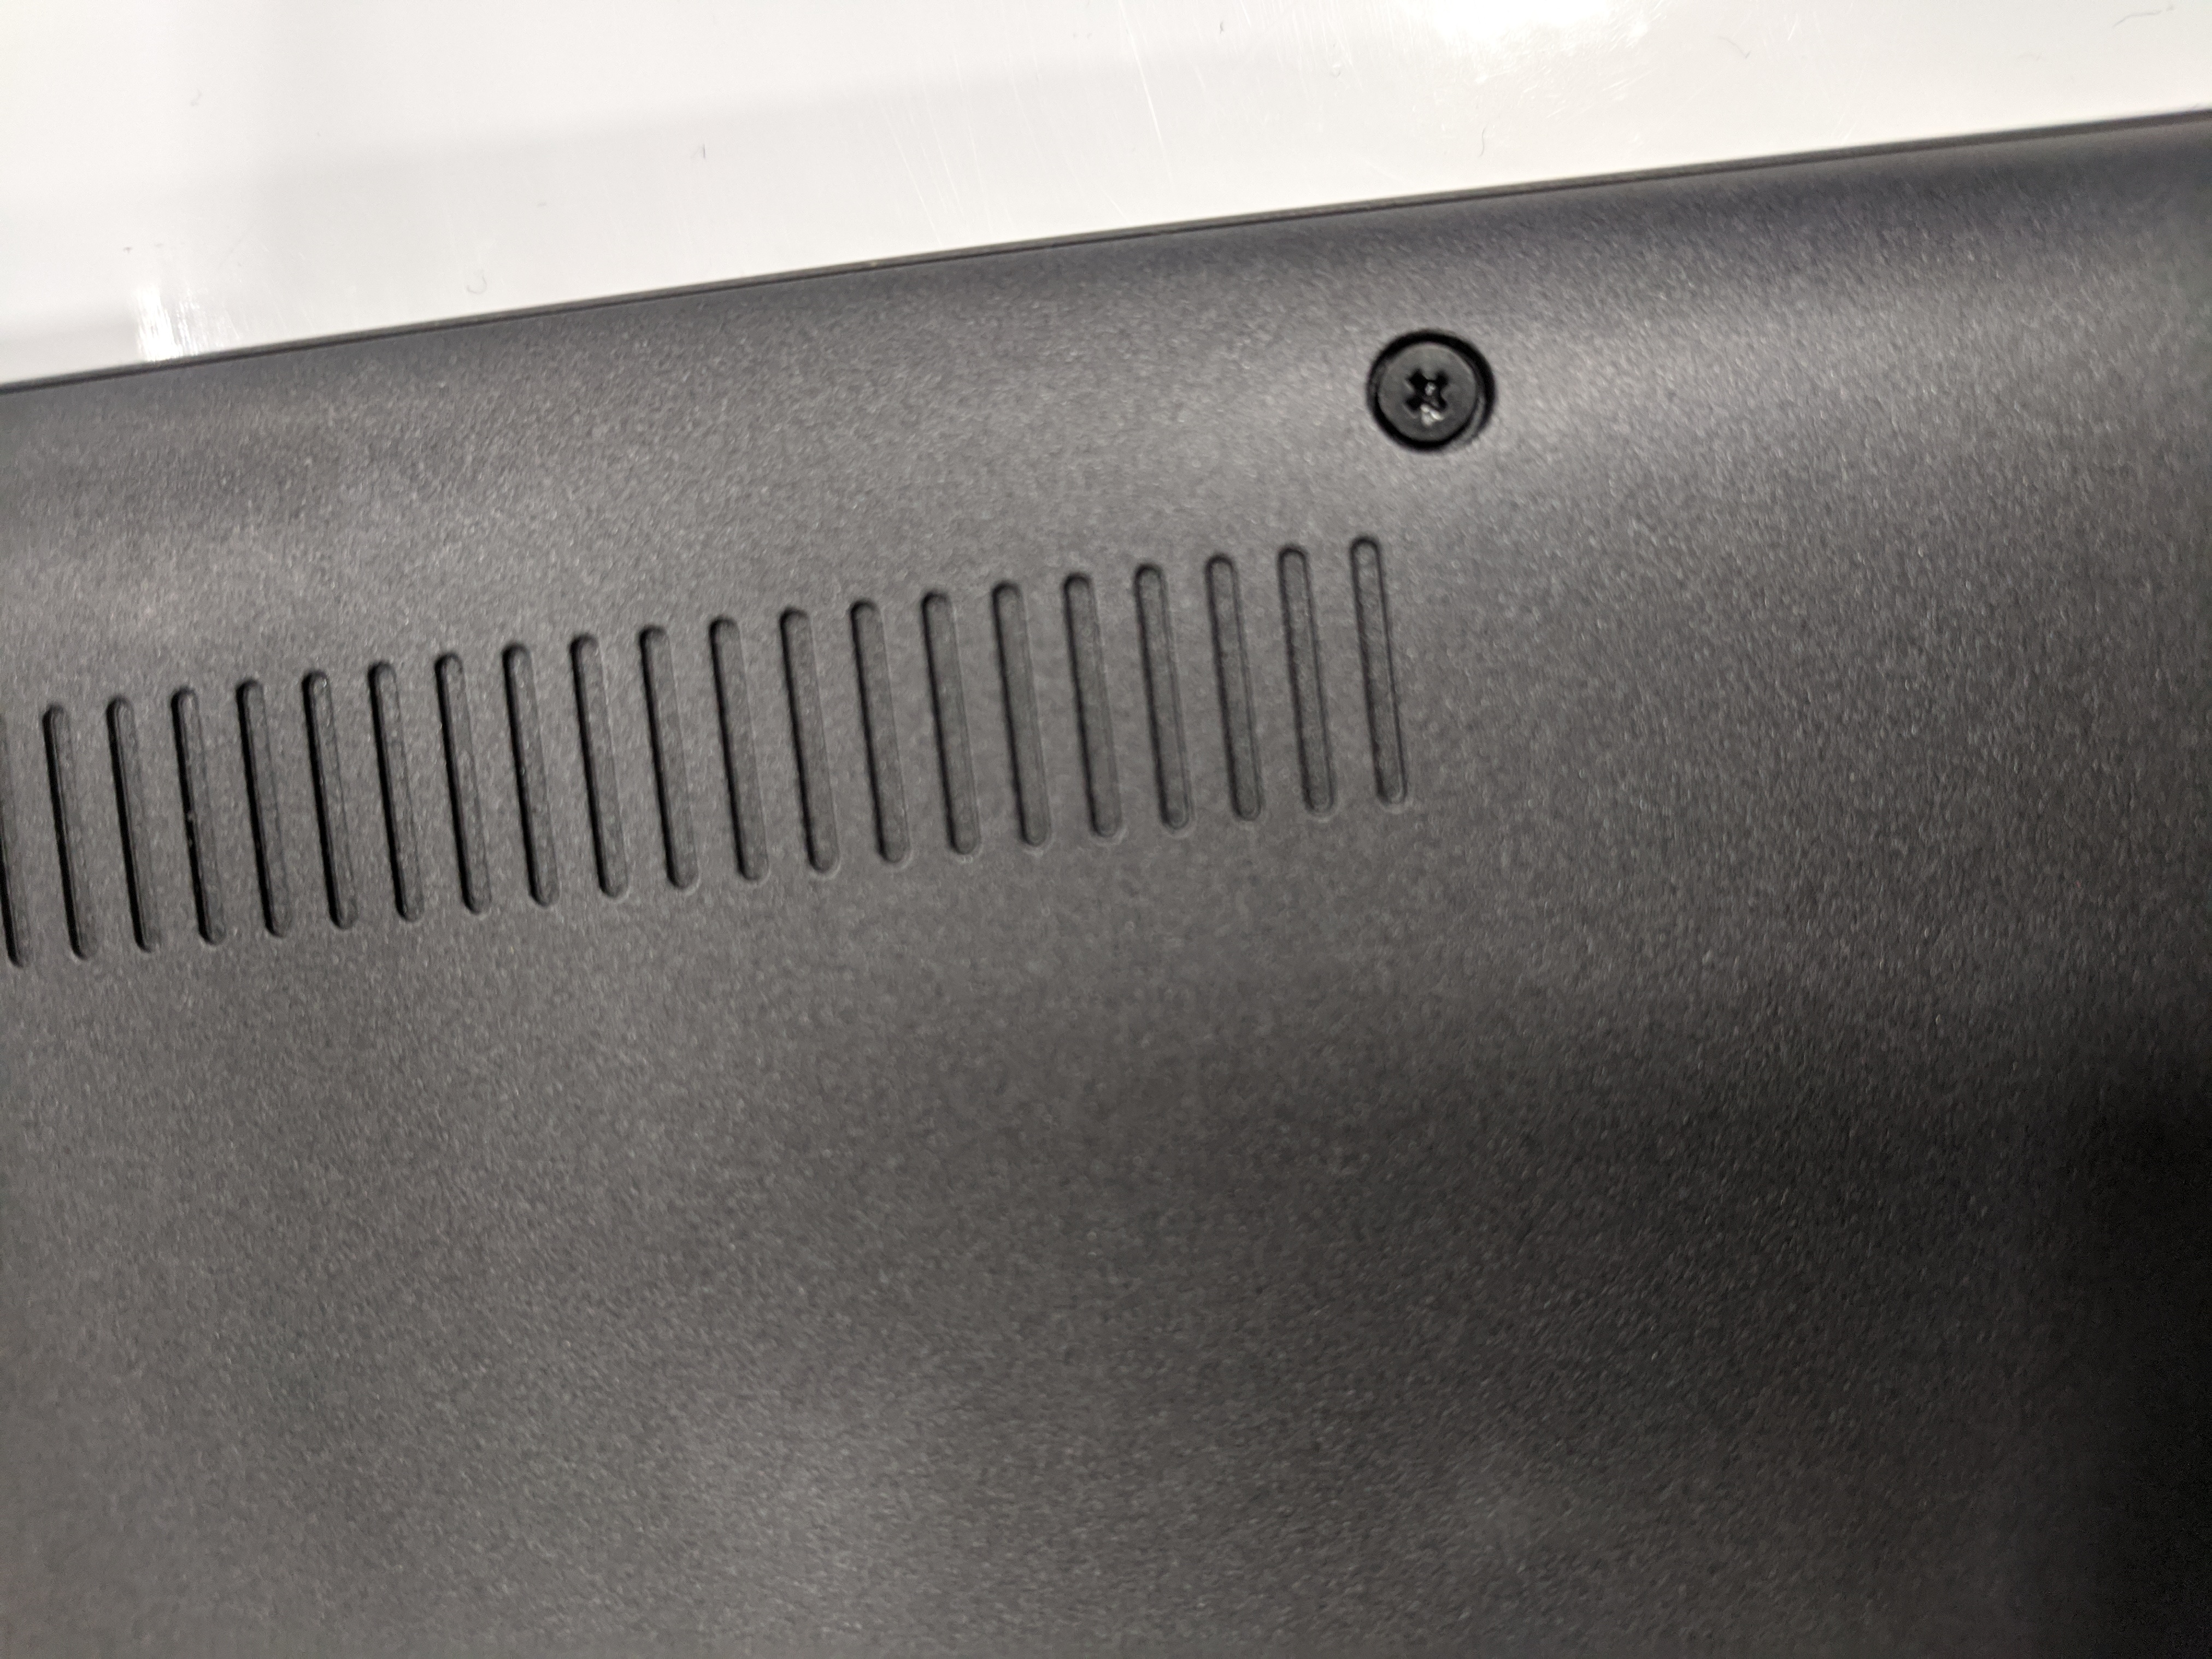cross_recessed_screw: (1362, 319, 1501, 458)
